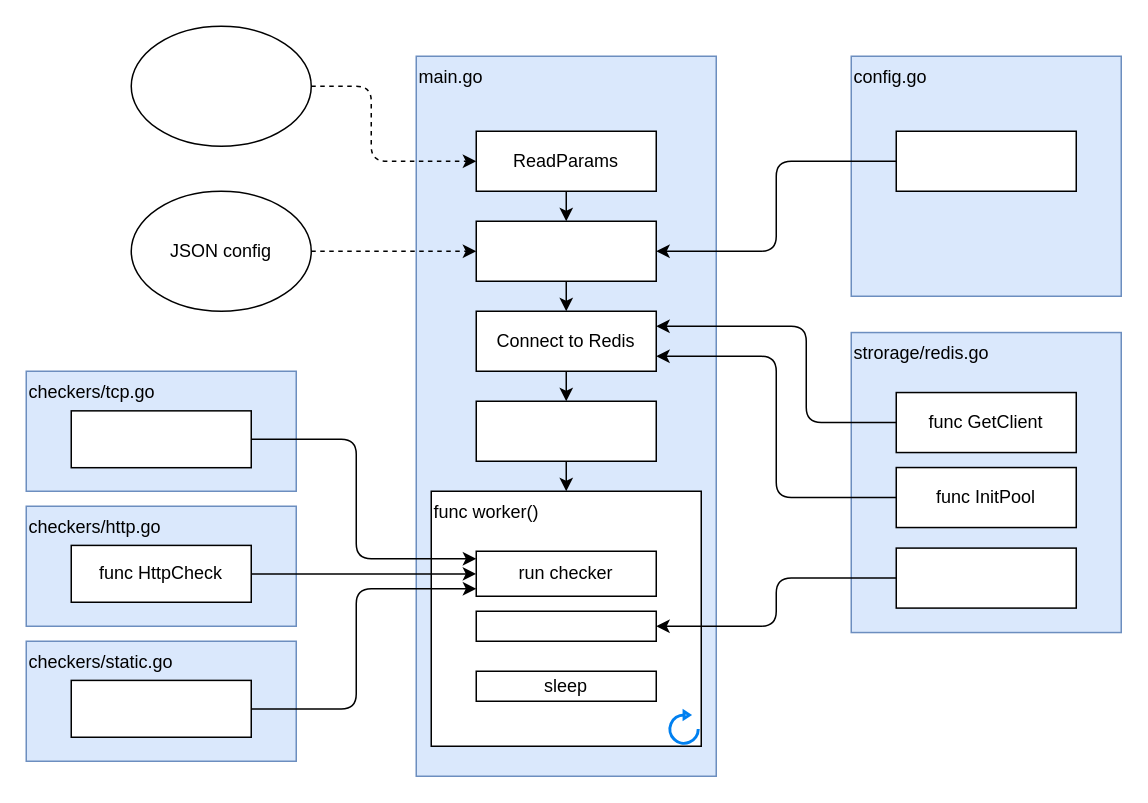
Some shapes in this 1148 by 803 pixel diagram are drawn without their labels. Here are the shapes that lost their labels. From the top down, the centre of each, then its label:
At pixel 220 85: "cmd flags".
At pixel 985 160: "func GetConfig".
At pixel 565 250: "Parse JSON config".
At pixel 160 438: "func TcpCheck".
At pixel 565 430: "SelectChecker".
At pixel 985 577: "func WriteStat".
At pixel 565 625: "write to Redis".
At pixel 160 708: "func StaticCheck".
